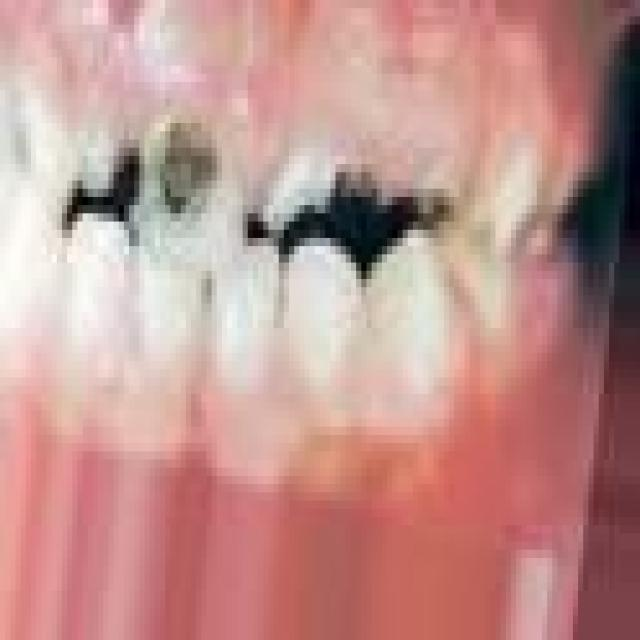caries: (147, 115, 224, 240), (258, 150, 340, 240), (85, 138, 140, 219)
